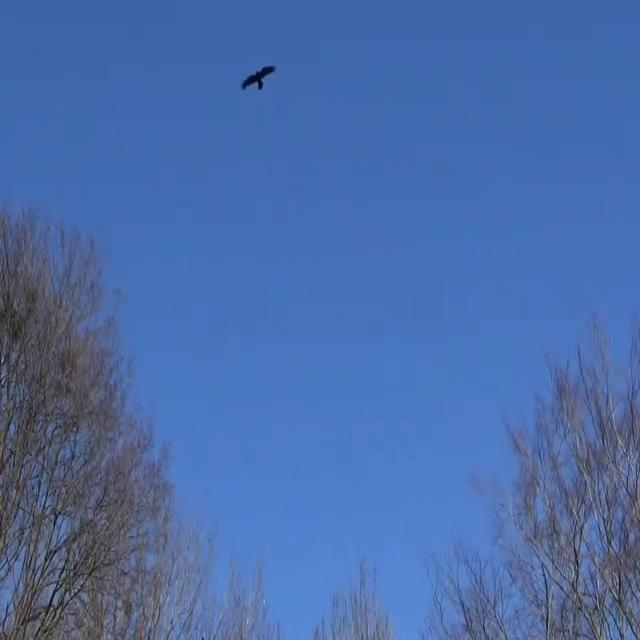bird: (237, 60, 279, 98)
